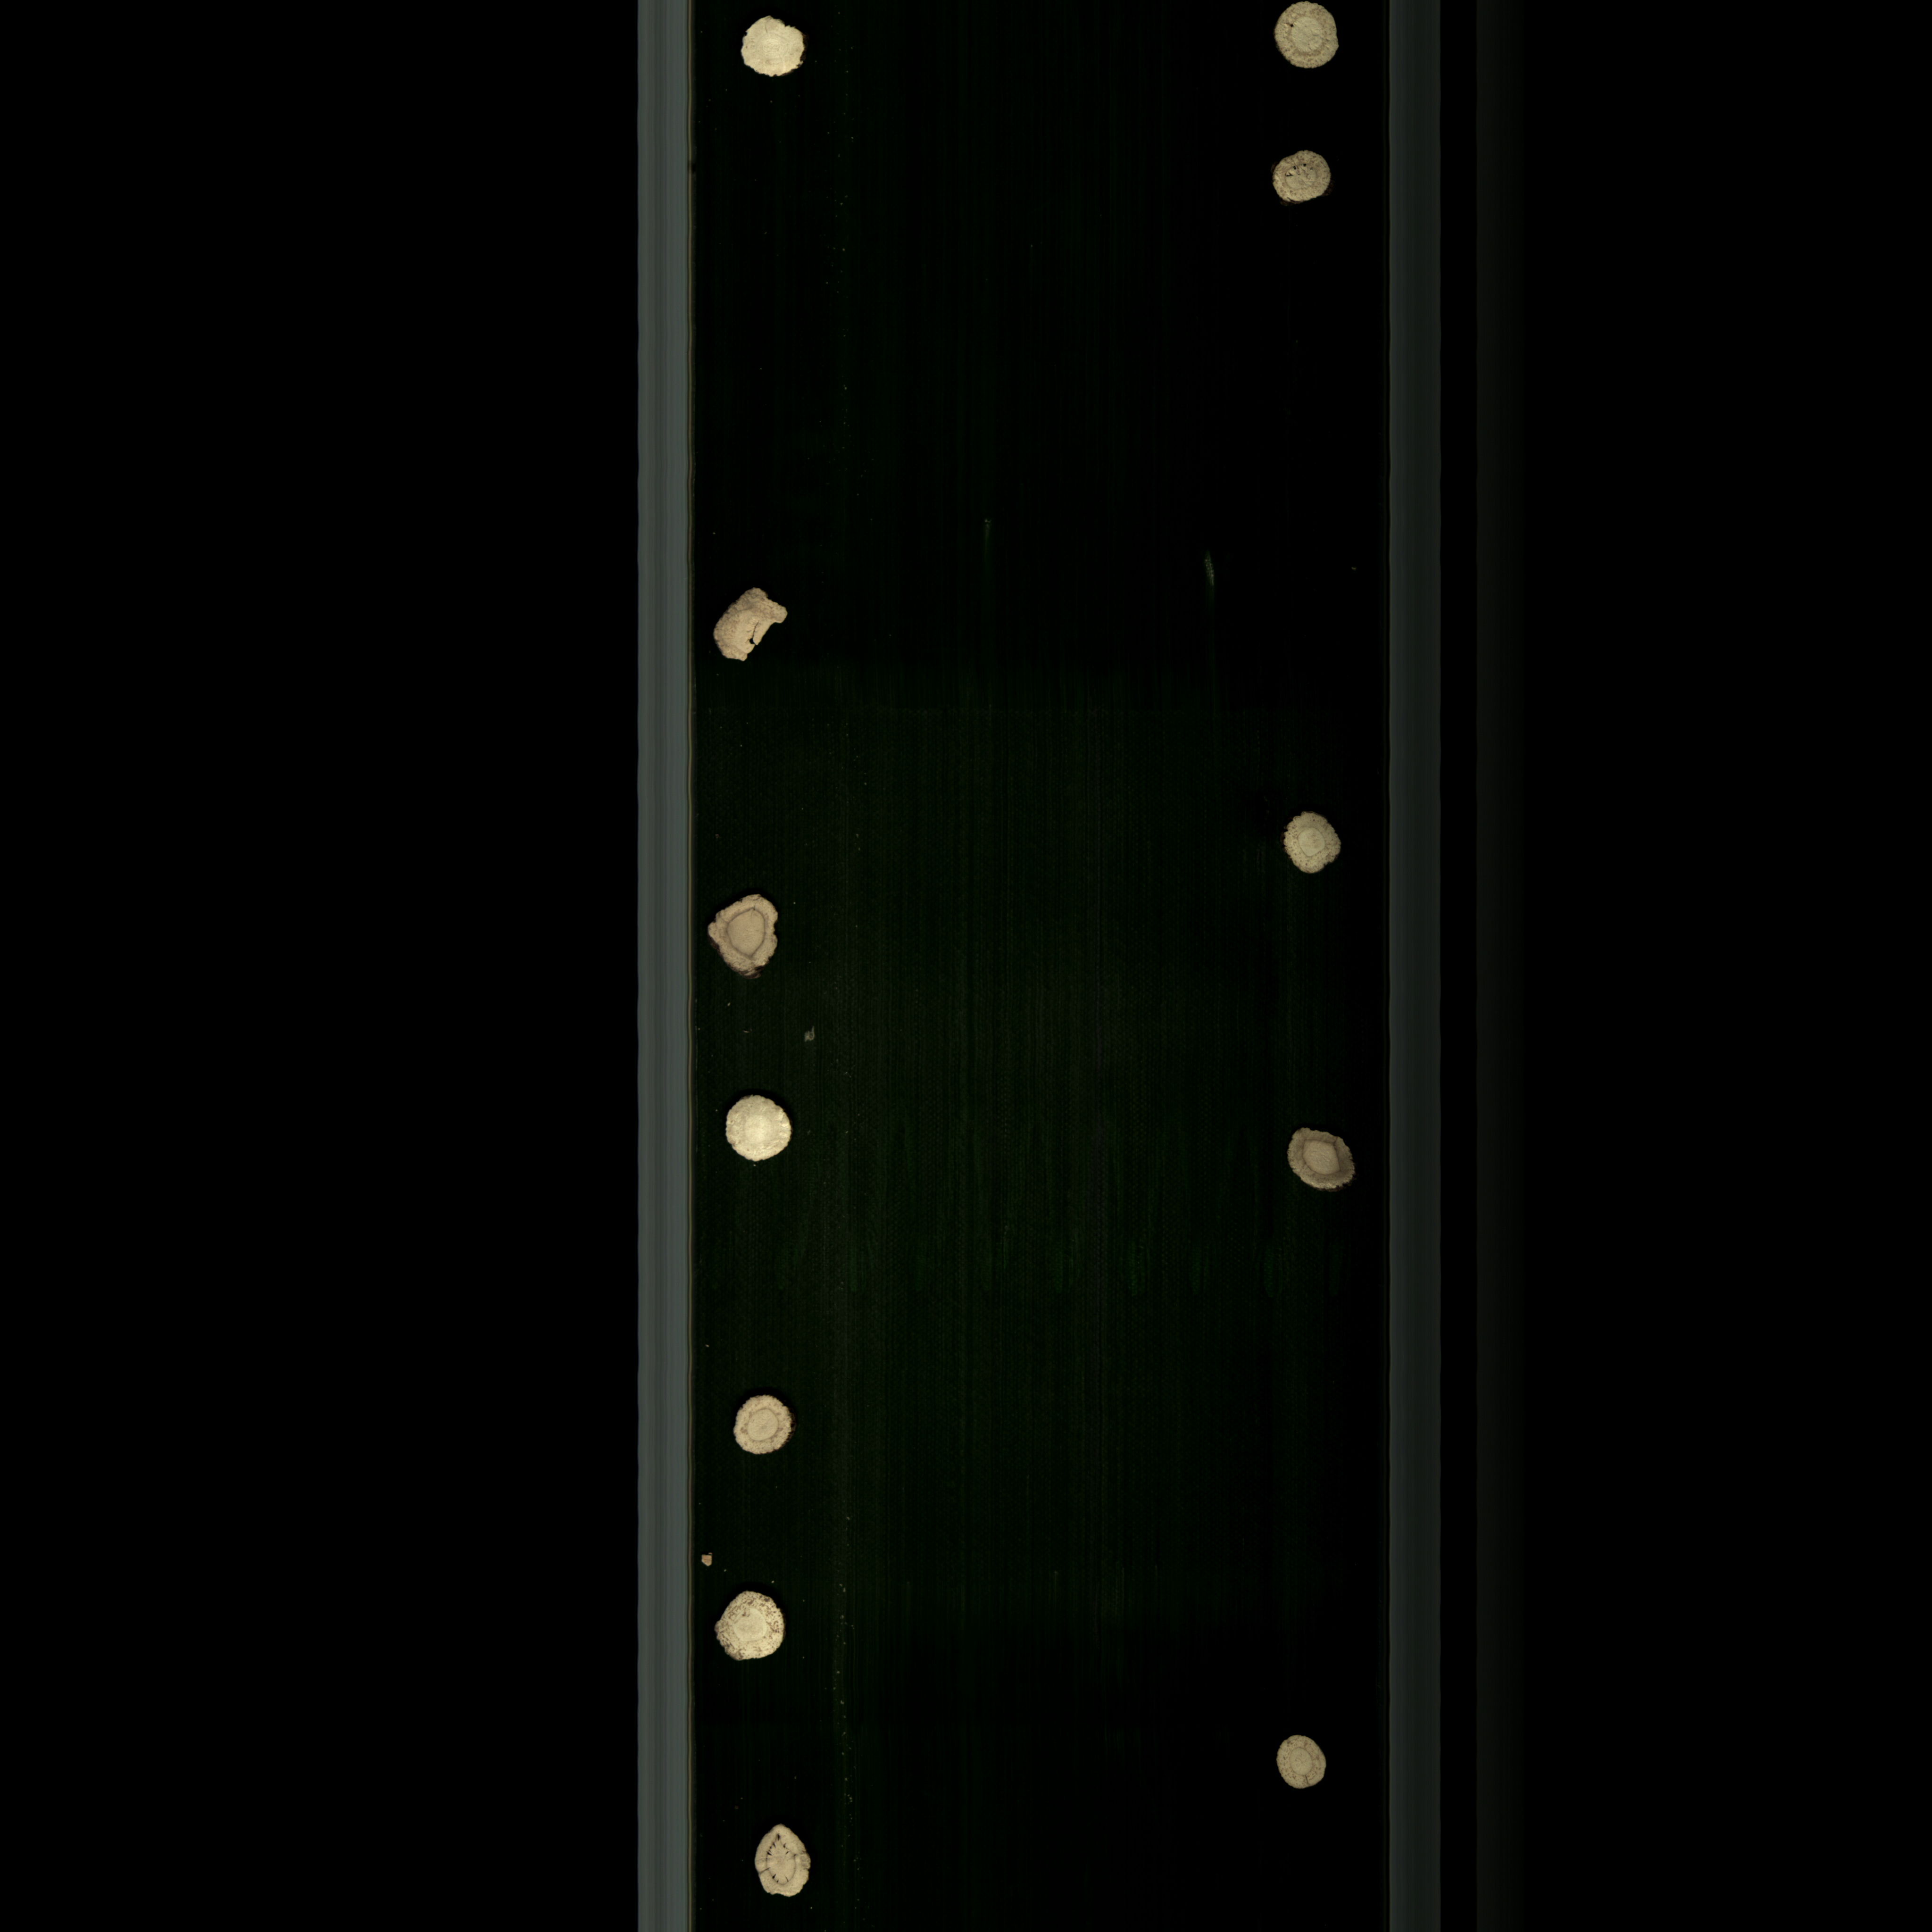debris: (706, 584, 794, 671)
distortion: (702, 892, 789, 985), (745, 1817, 819, 1905)
dreg: (692, 1550, 722, 1573)
moldy: (1274, 1122, 1369, 1201), (1267, 2, 1353, 74), (1265, 143, 1343, 212)
